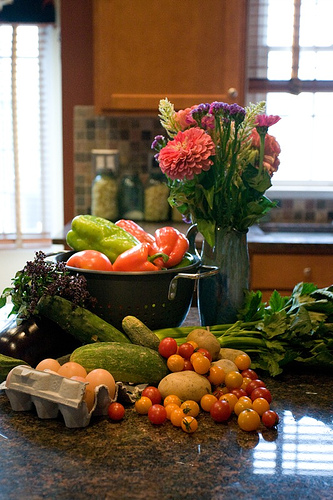cucumber: (68, 341, 165, 381)
